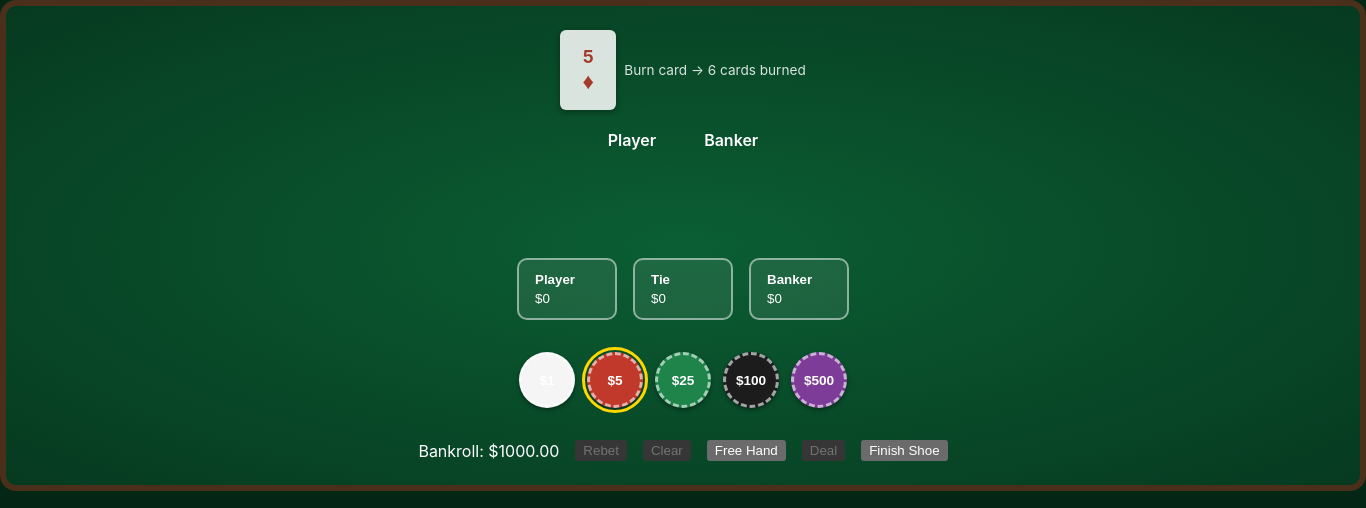
Scenario: Table › places a bet on the clicked spot with the selected chip value
expect the text "Bankroll: $1000.00" is shown: met, box [418,440,559,460]
Click the button with test id "chip-25" at coordinates (683, 380), box [655,352,711,408]
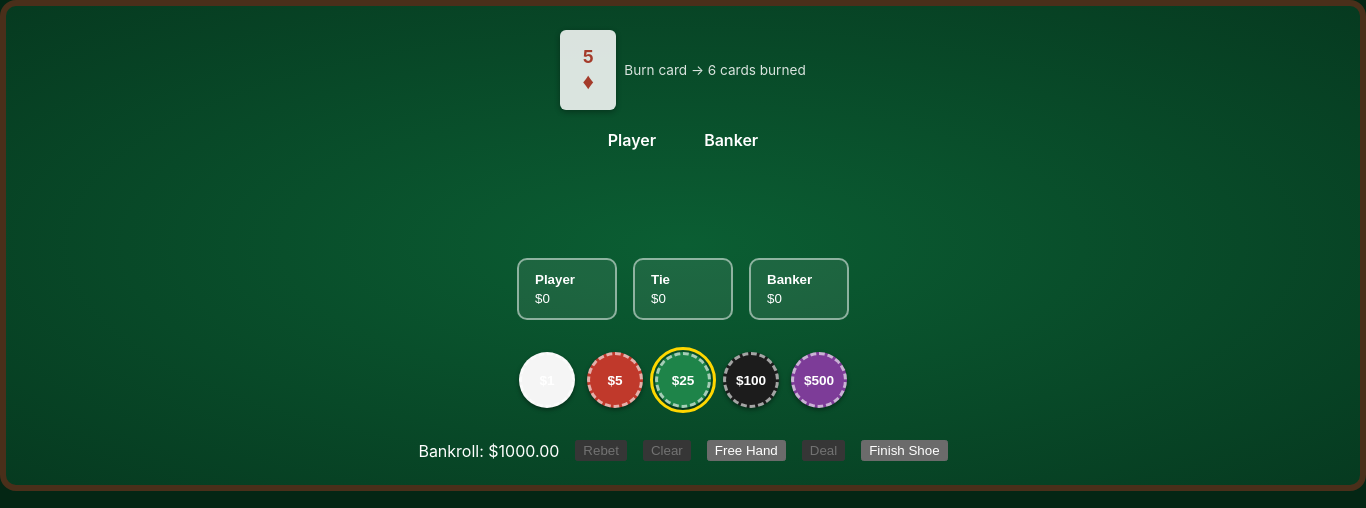
Click the button with test id "bet-spot-player" at coordinates (567, 289), box [517,258,617,320]
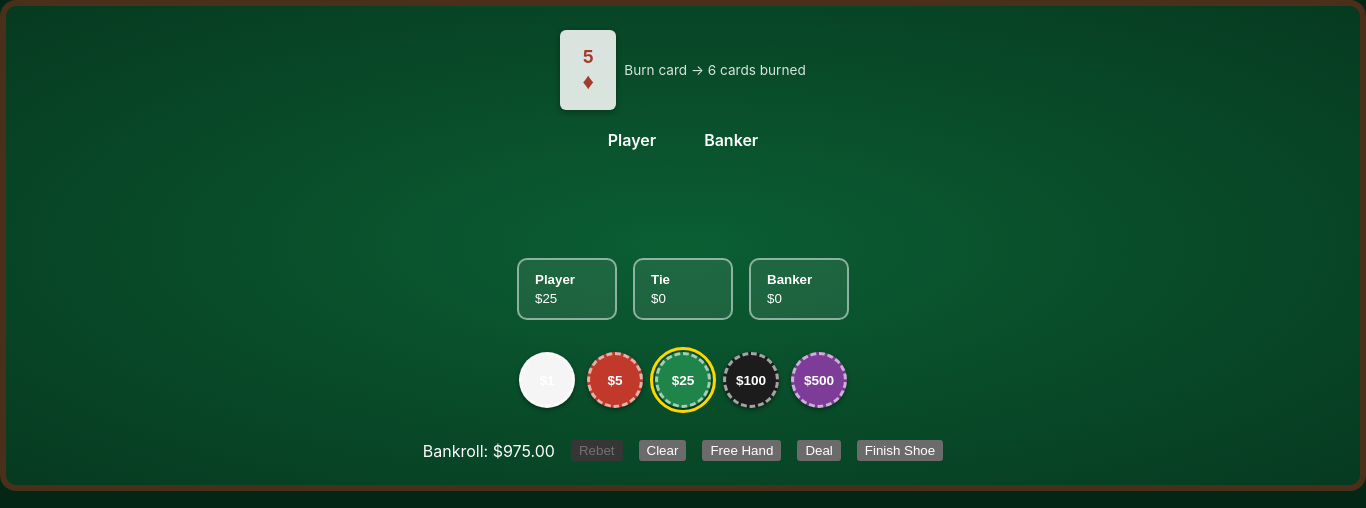
expect the text "Bankroll: $975.00" is shown: met, box [423,440,555,460]
